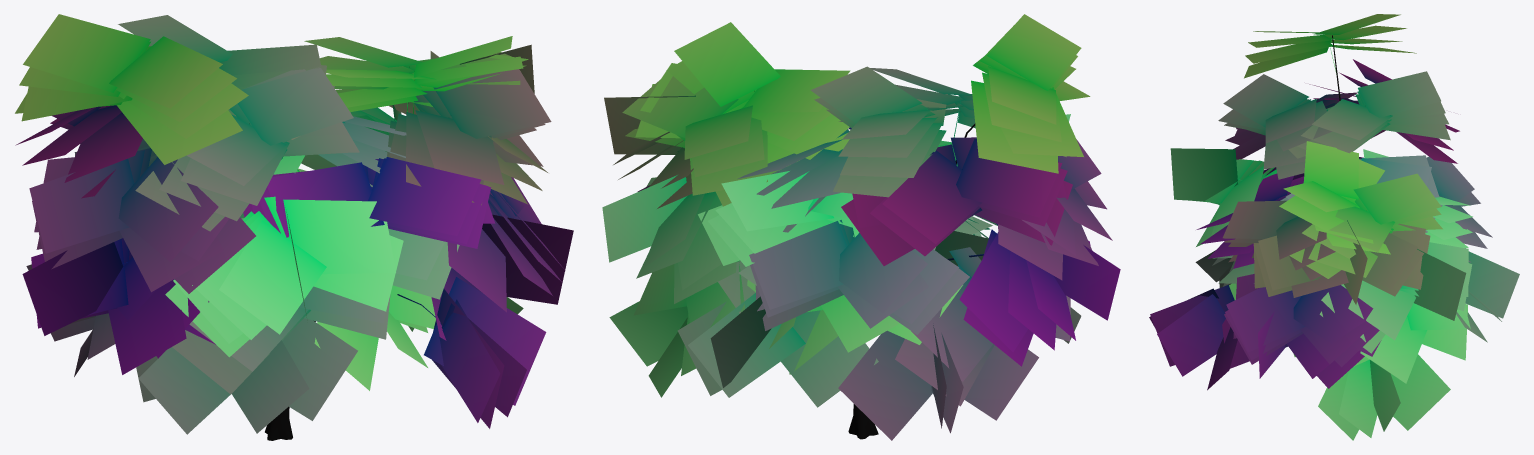
File: Tree_1_9.fbx
The picture shows the model from 3 angles, left to right: view 1: azimuth 30°, elevation 25°; view 2: azimuth 150°, elevation 25°; view 3: azimuth 270°, elevation 25°; orthographic projection. The views are drawn at different scales.
Parts seen in each view (by area): view 1: _9; view 2: _9; view 3: _9.
Boxes of the visible parts, bbox=[...] form: _9: bbox=[15, 14, 573, 440]; _9: bbox=[602, 14, 1120, 440]; _9: bbox=[1149, 14, 1519, 440].
Size of the model in its own units: 1741 by 1371 by 1458.
